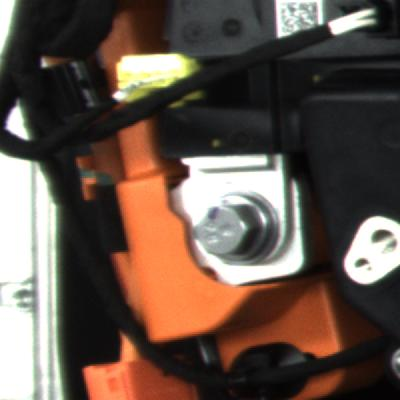nut_b: (182, 186, 291, 273)
